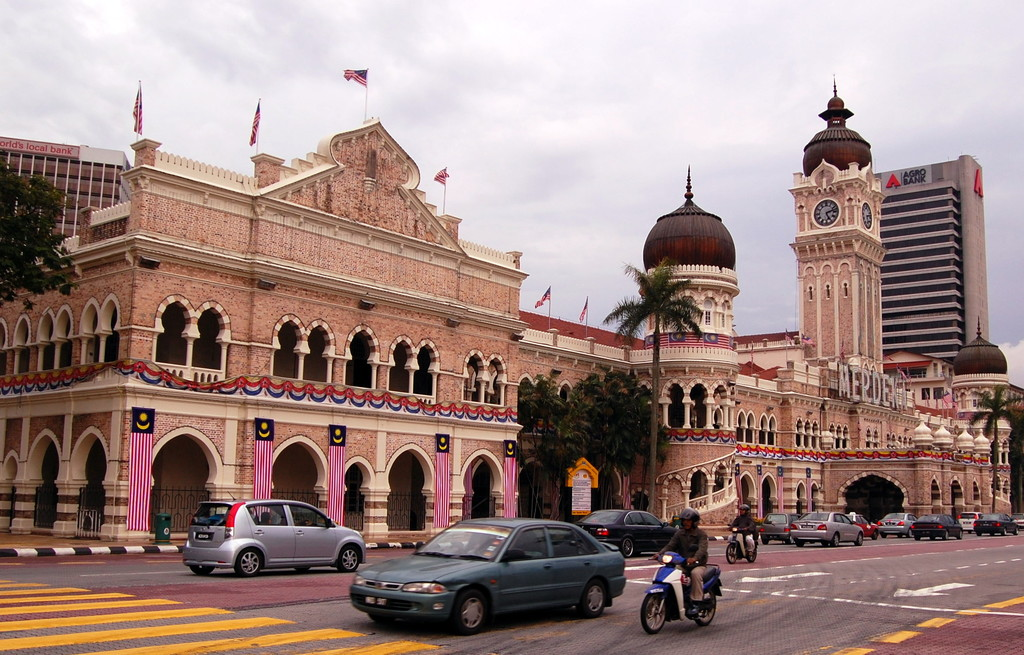cars: (337, 523, 639, 637), (179, 488, 367, 575), (759, 511, 1023, 551), (574, 508, 676, 557)
